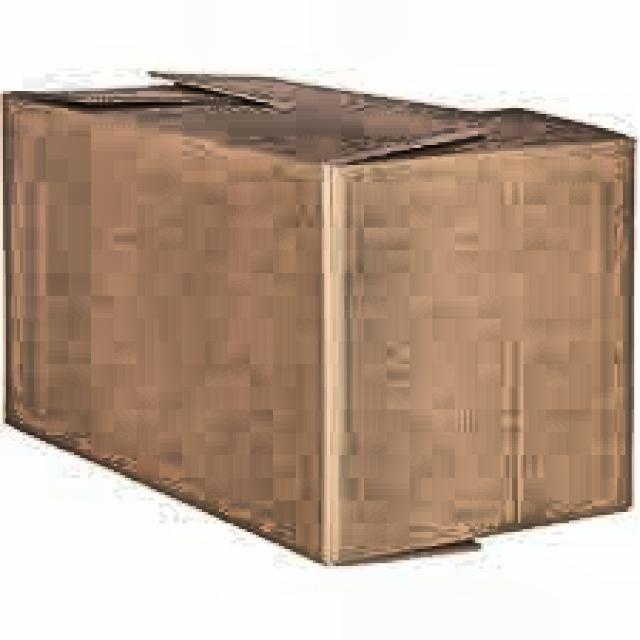cardboard: (0, 68, 637, 566)
